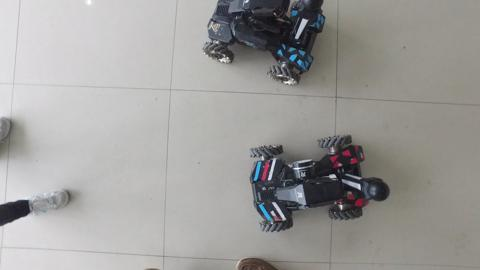chariot: (248, 130, 393, 237), (194, 1, 334, 87)
